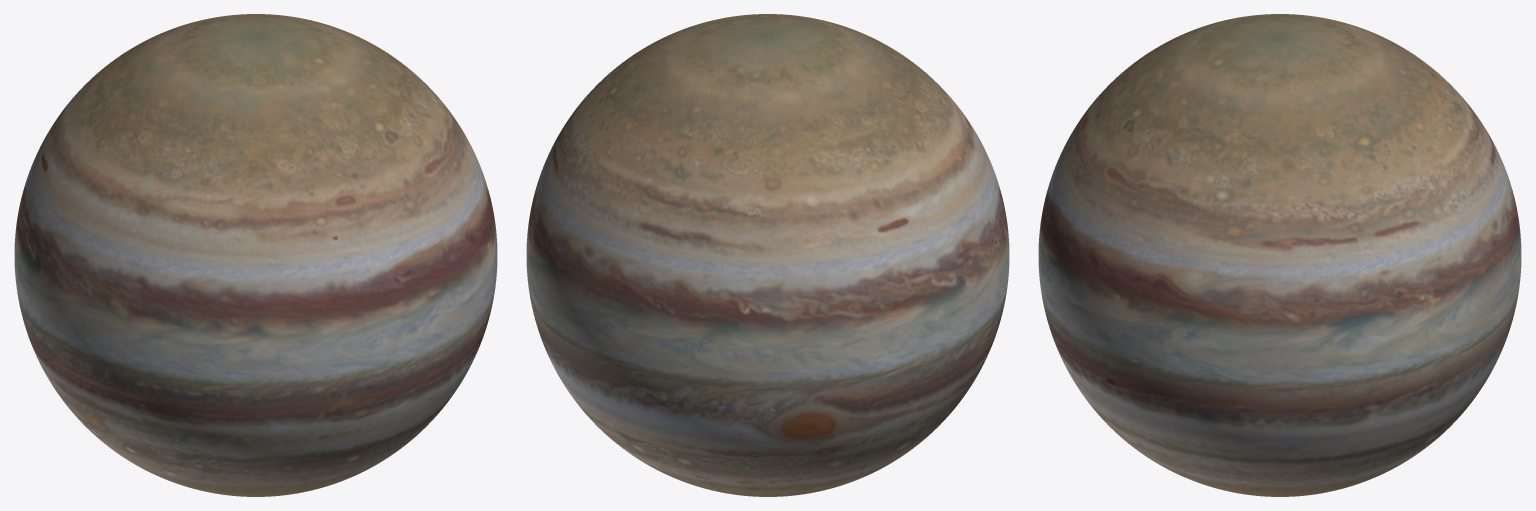
The model's file is jupiter.glb.
3 views of the same model, side by side, from view 1: azimuth 30°, elevation 25°; view 2: azimuth 150°, elevation 25°; view 3: azimuth 270°, elevation 25° (orthographic).
Parts seen in each view (by area): view 1: Jupiter; view 2: Jupiter; view 3: Jupiter.
Boxes of the visible parts, <box> form: Jupiter: <box>14,14,497,496</box>; Jupiter: <box>526,14,1009,496</box>; Jupiter: <box>1038,14,1521,496</box>.
Size of the model in its own units: 1400 by 1400 by 1400.
Materials: 1 (1 with a texture image).
